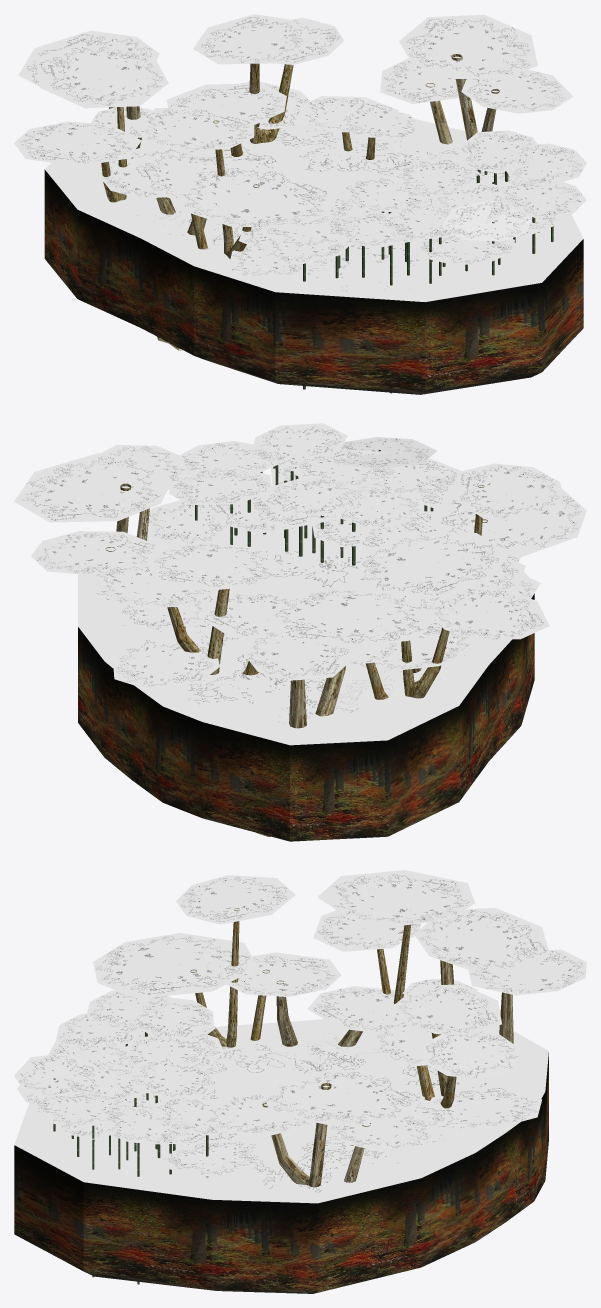
The model's file is last_piklopedia_bake.dae.
3 renders of one model, top to bottom at view 1: azimuth 30°, elevation 25°; view 2: azimuth 150°, elevation 25°; view 3: azimuth 270°, elevation 25°, orthographic. The views are drawn at different scales.
Visible parts, largest first — view 1: m12_VC, m10, m12, m11_VC, m11, m13, m14, m2; view 2: m12_VC, m12, m10, m11_VC, m11, m13, m14, m2; view 3: m12_VC, m10, m12, m11_VC, m11, m14, m13, m2.
Boxes of the visible parts, x1,y1,x2,y2 form: m12_VC: (21,17,581,275); m10: (44,169,583,394); m12: (14,14,586,279); m11_VC: (45,118,583,301); m11: (136,128,457,291); m13: (100,63,375,258); m14: (109,54,499,350); m2: (303,169,553,393); m12_VC: (23,426,580,686); m12: (14,423,586,690); m10: (78,593,534,841); m11_VC: (78,502,529,745); m11: (123,546,464,723); m13: (167,485,487,699); m14: (105,483,421,836); m2: (195,450,433,565); m12_VC: (19,874,583,1174); m10: (14,1053,548,1293); m12: (14,870,586,1176); m11_VC: (14,1019,548,1203); m11: (153,1033,486,1192); m14: (262,947,513,1187); m13: (190,908,456,1145); m2: (53,1032,208,1284).
Size of the model in its own units: 9789 by 4681 by 9886.
90 materials, 89 textured.
